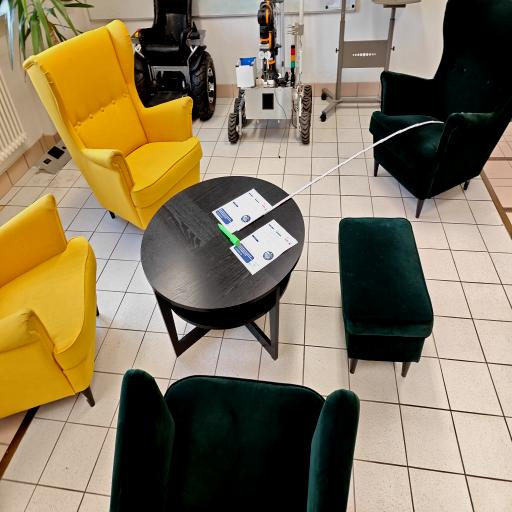Probe-Detection: (218, 224, 240, 246)
